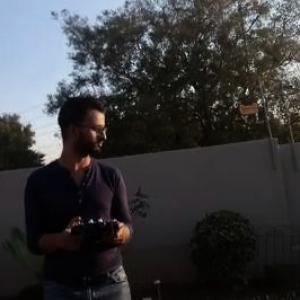follow: (12, 88, 136, 299)
